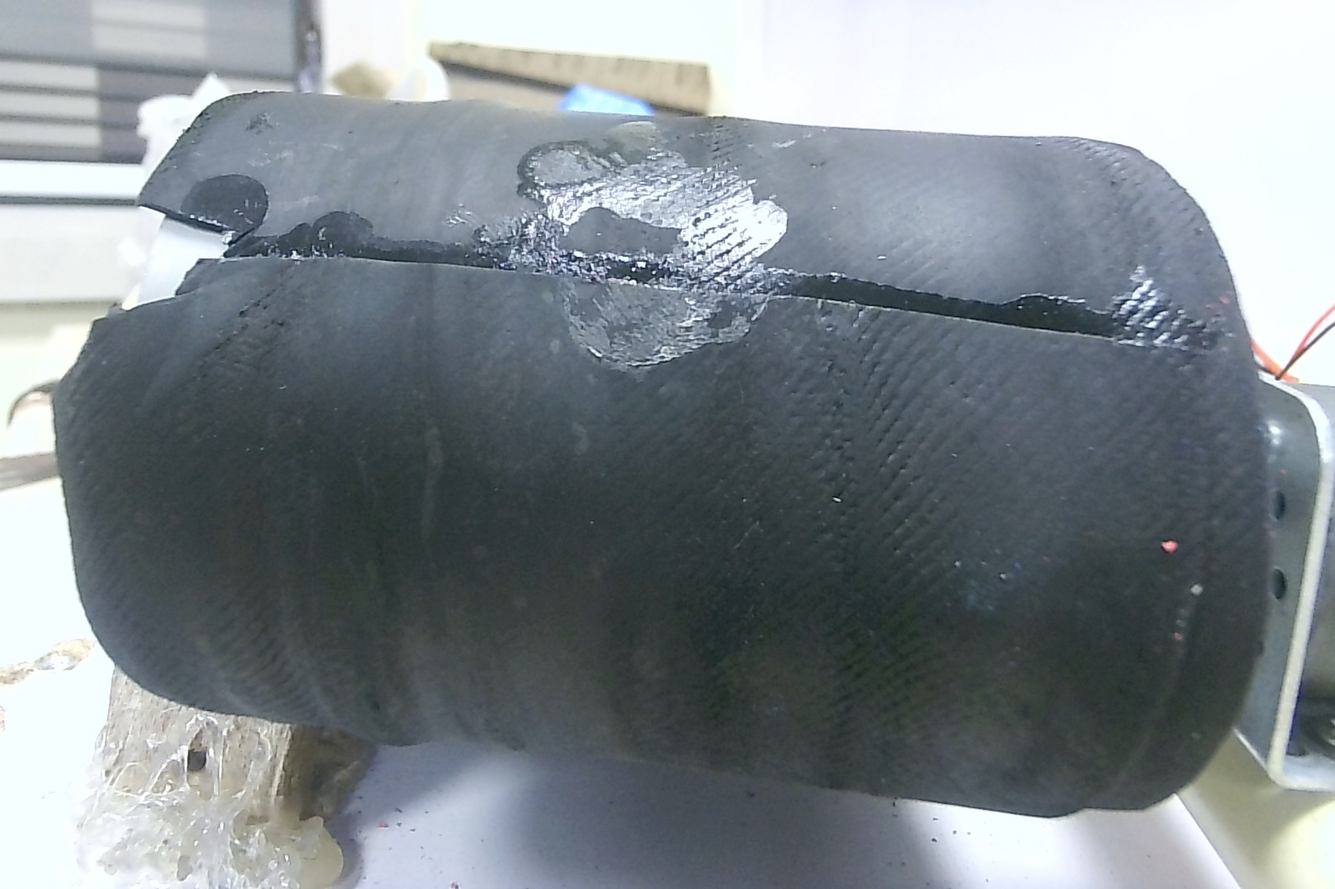joint_damage: (83, 170, 422, 315)
